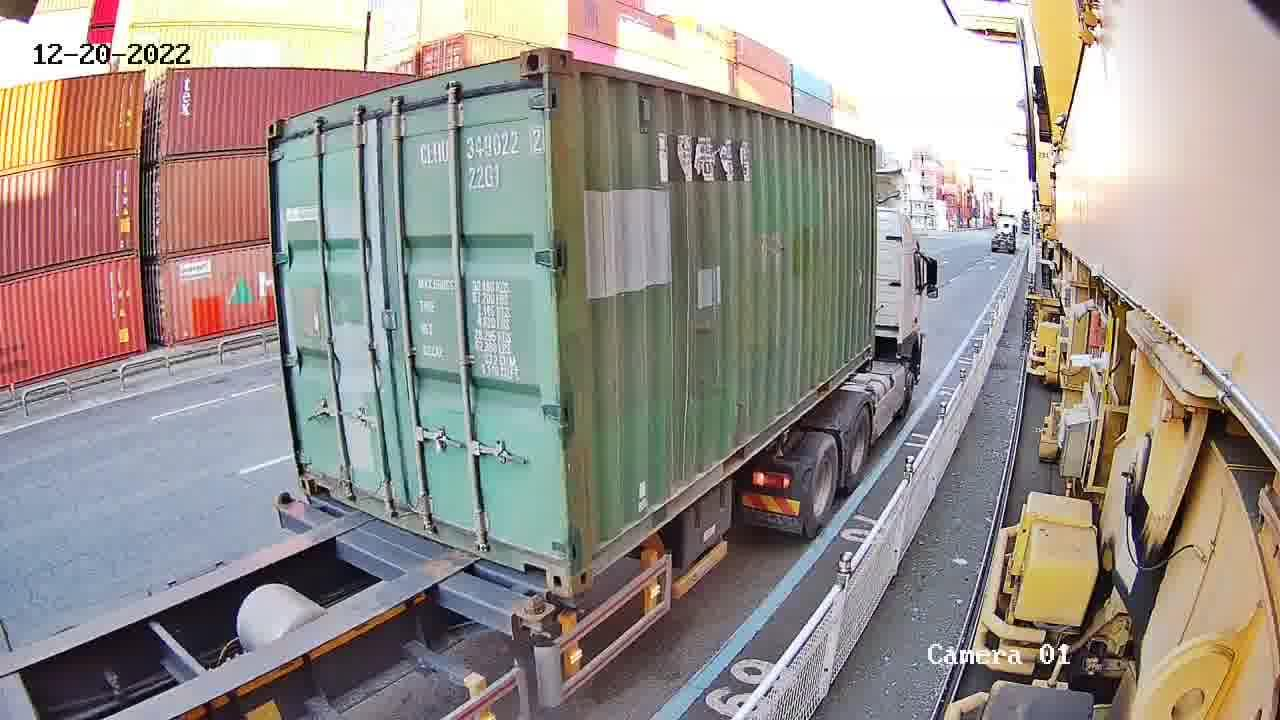Chassis: (276, 501, 538, 633), (313, 497, 566, 603)
Cone: (519, 597, 556, 637), (566, 590, 589, 619), (275, 493, 292, 524)
Hole_L: (566, 514, 606, 597), (294, 452, 332, 501)
Hole_R: (517, 526, 566, 596)
Tire: (806, 440, 839, 525), (844, 406, 875, 487)
